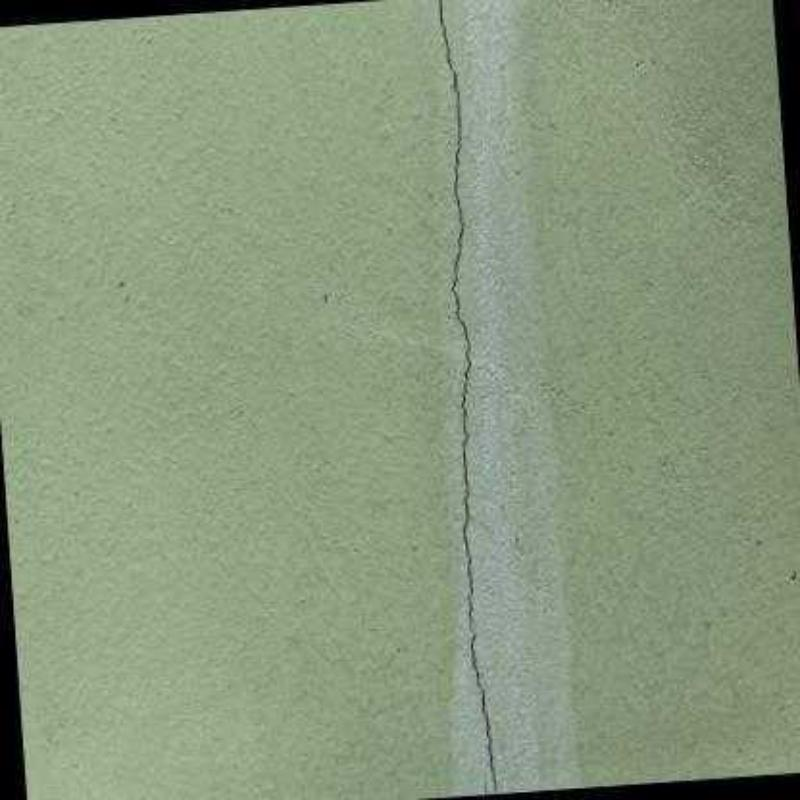pothole: (439, 0, 473, 634), (470, 619, 497, 794), (485, 780, 487, 795)
